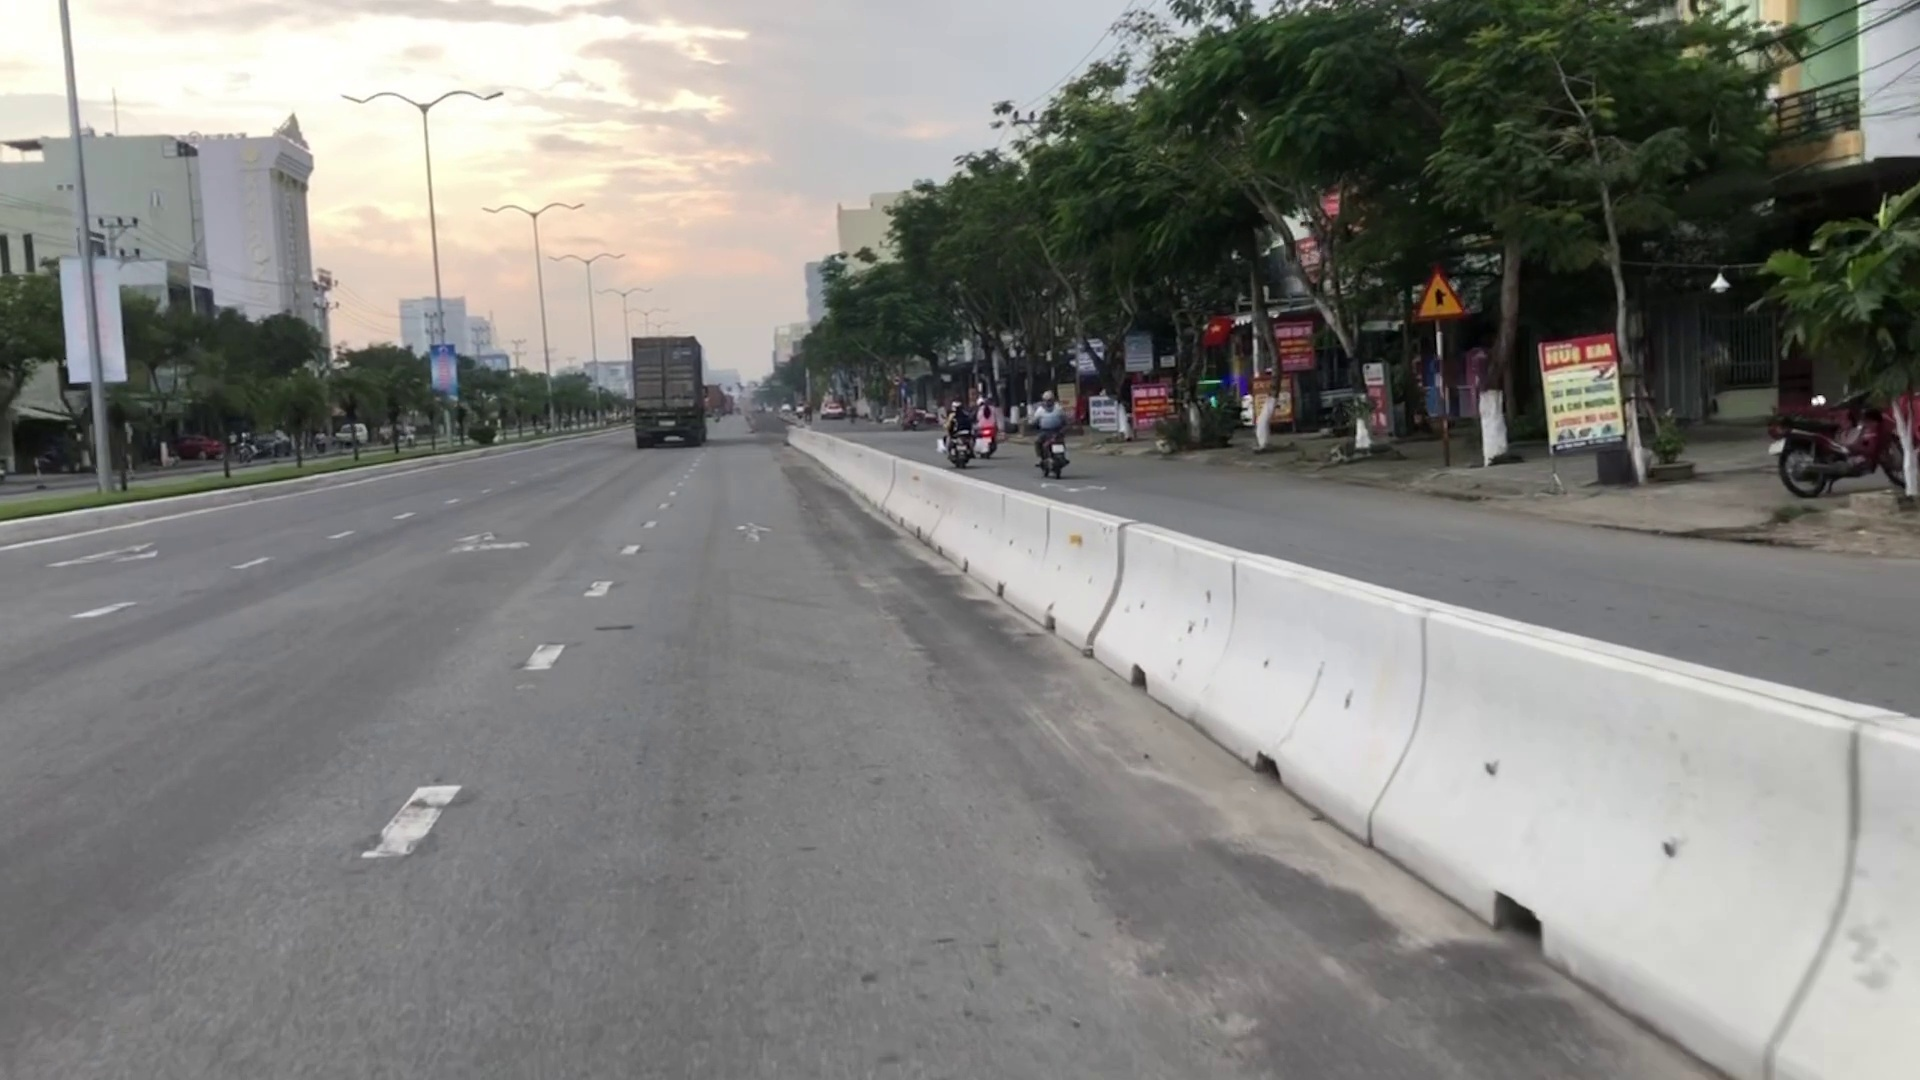Giao nhau voi duong khong uu tien: (1412, 270, 1466, 318)
